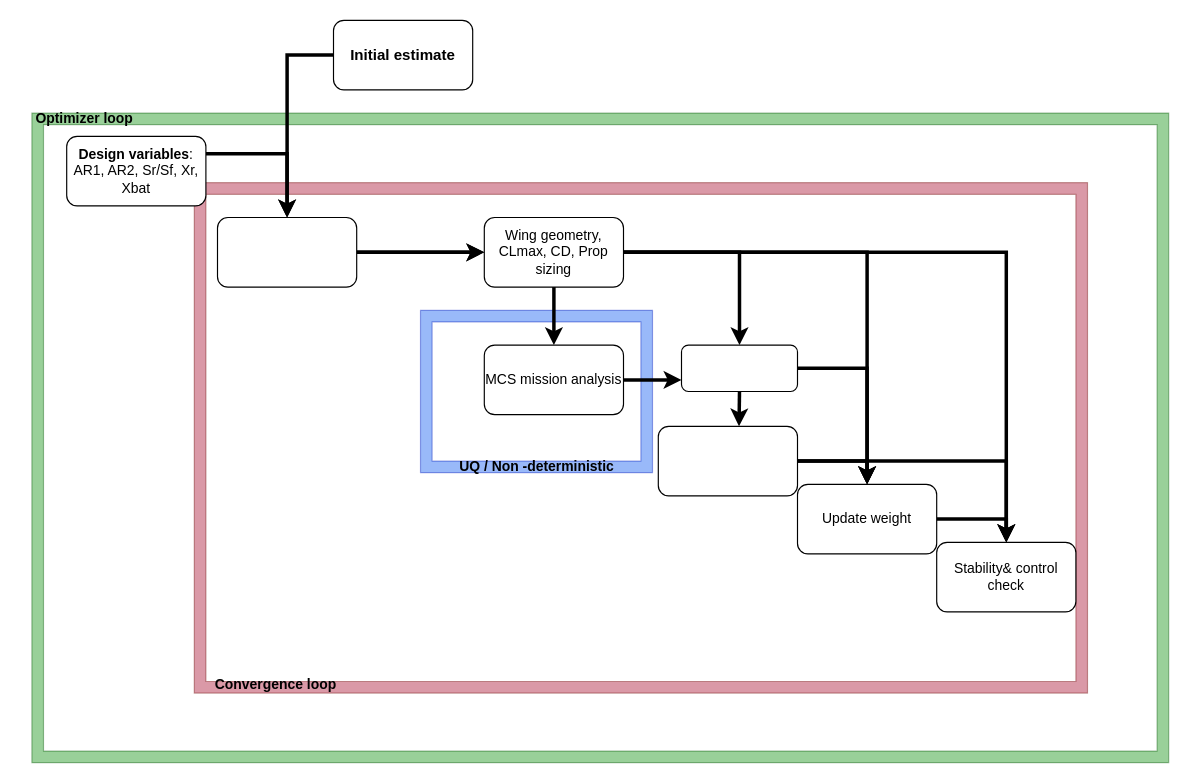
This 1189x783 diagram has some shape labels left out. The shapes that lost their labels are listed below. From the top down, each one's centre as x and y in pixels, then its label:
At pixel 286 251: "Wing design".
At pixel 739 368: "Energy, time,Pmax, Tmax".
At pixel 727 460: "Engine and battery sizing".
